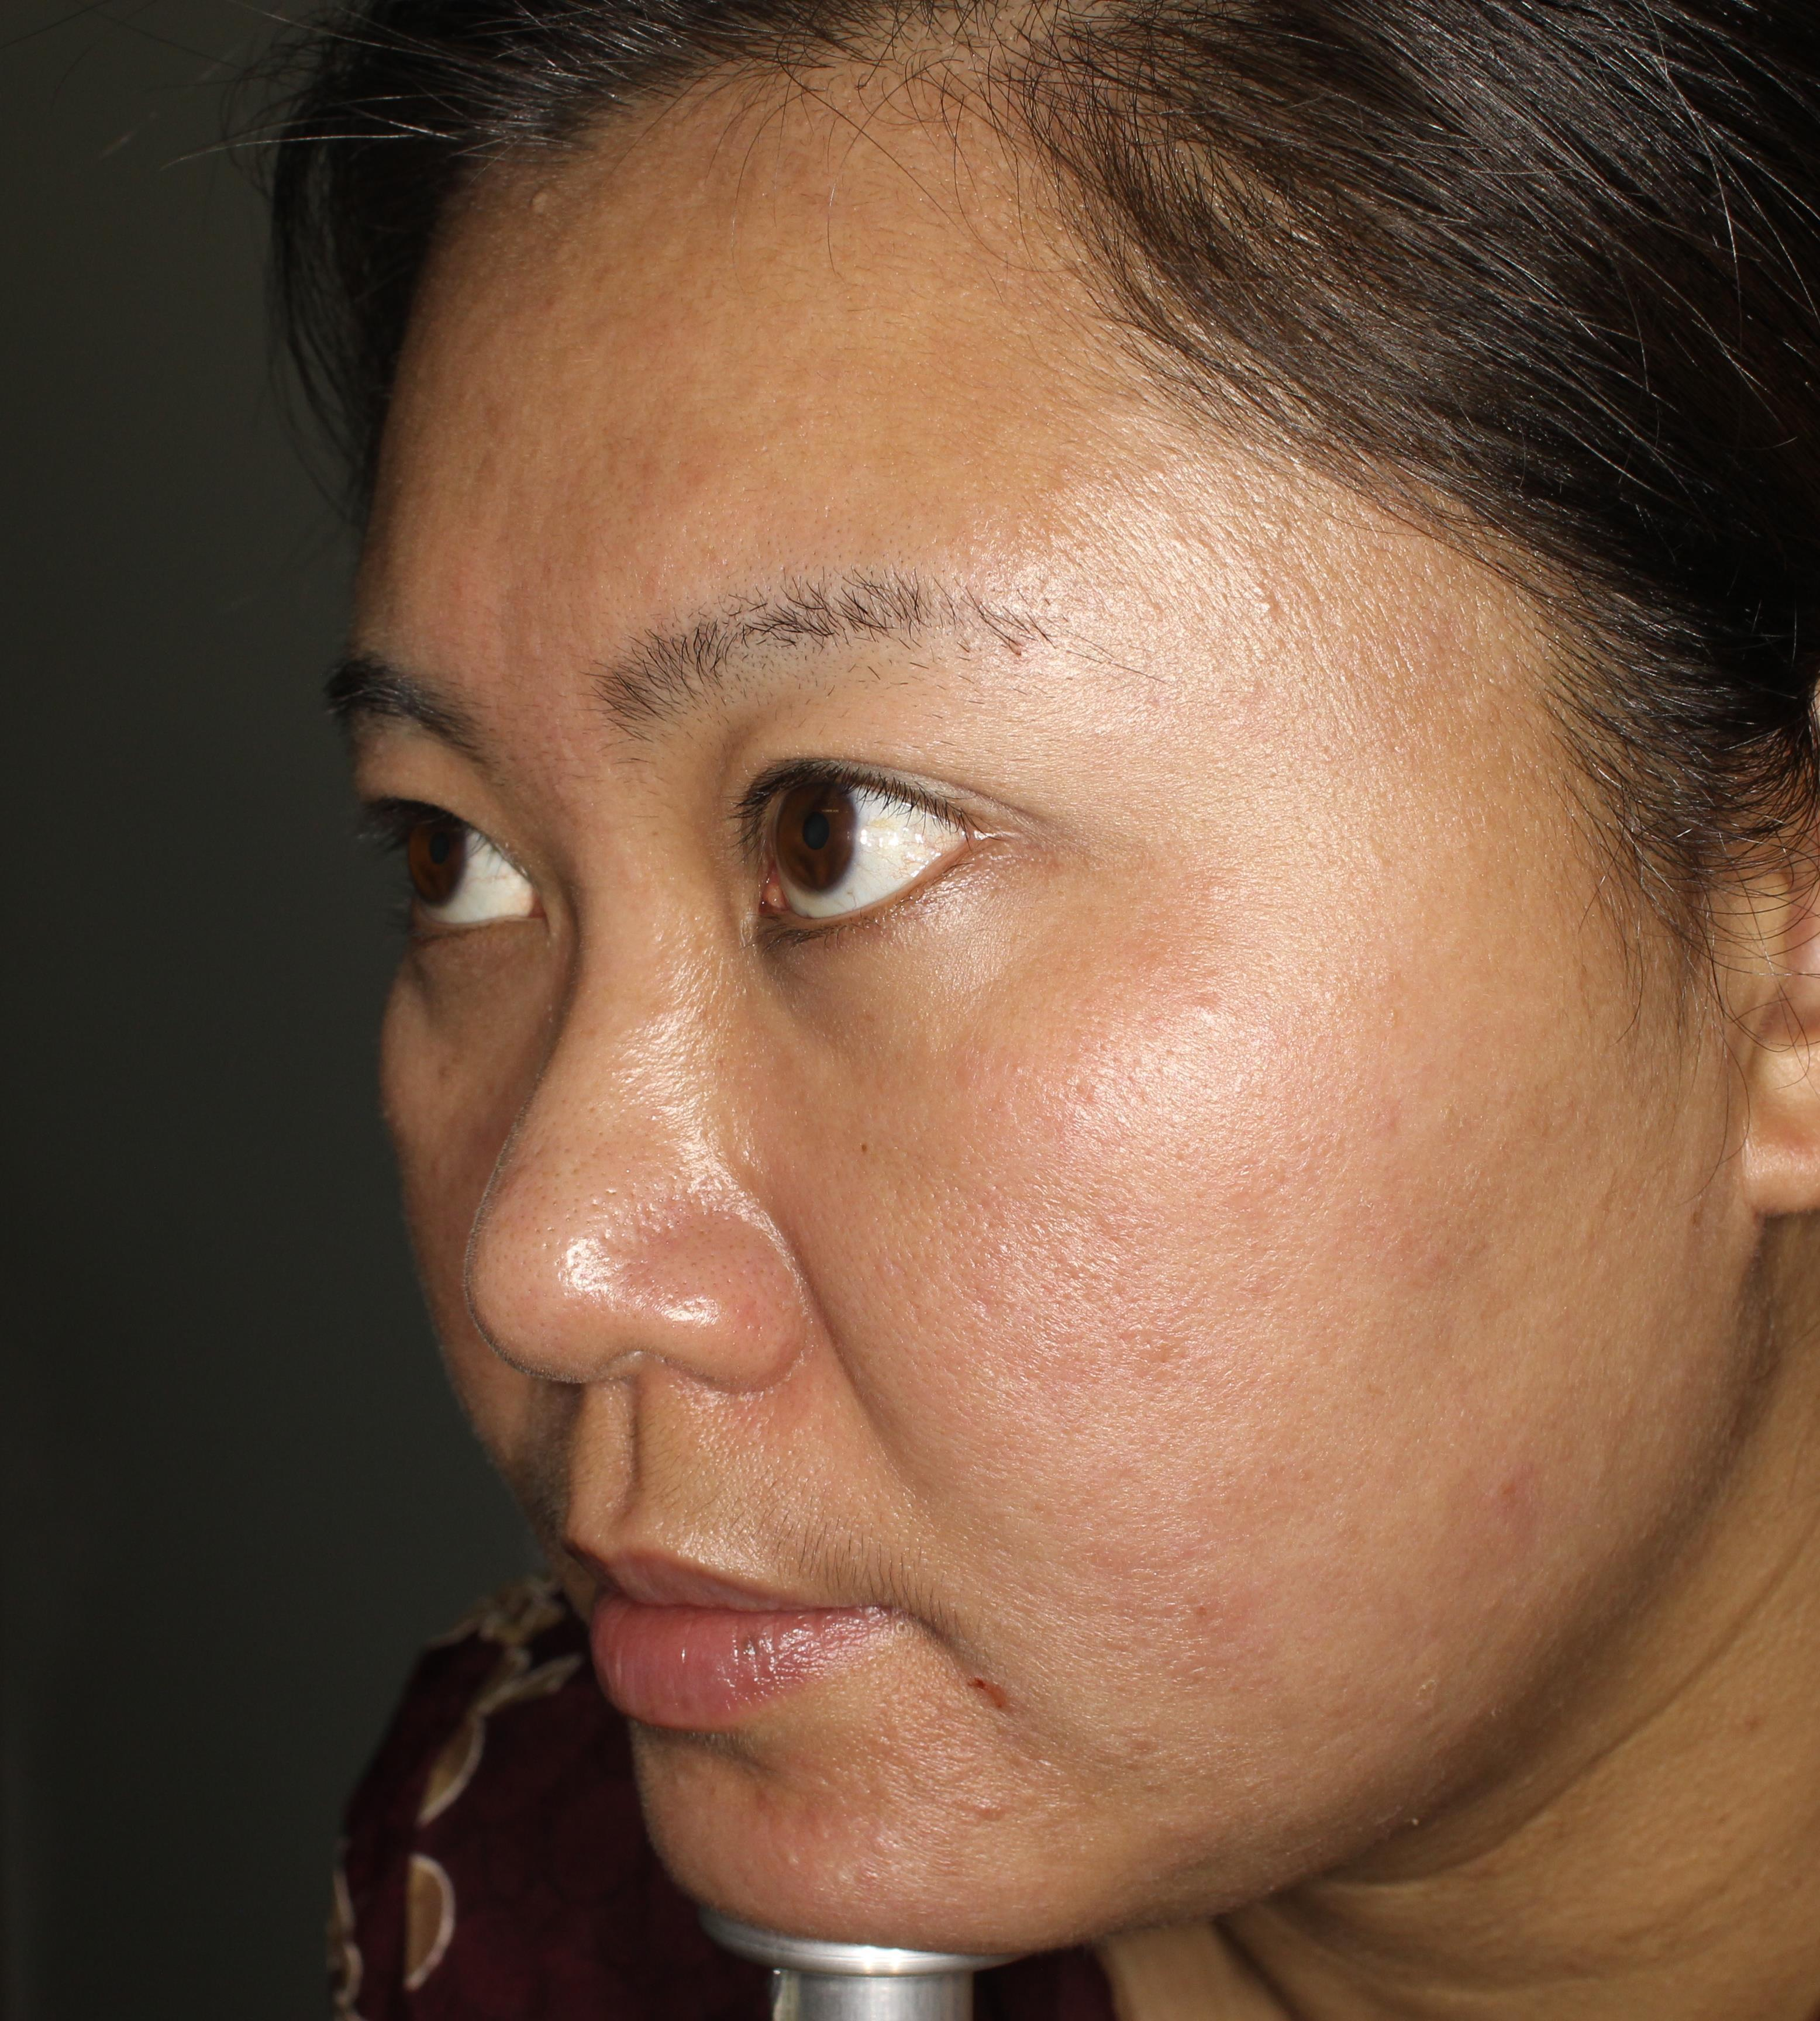fore: (1476, 1450, 1556, 1531)
